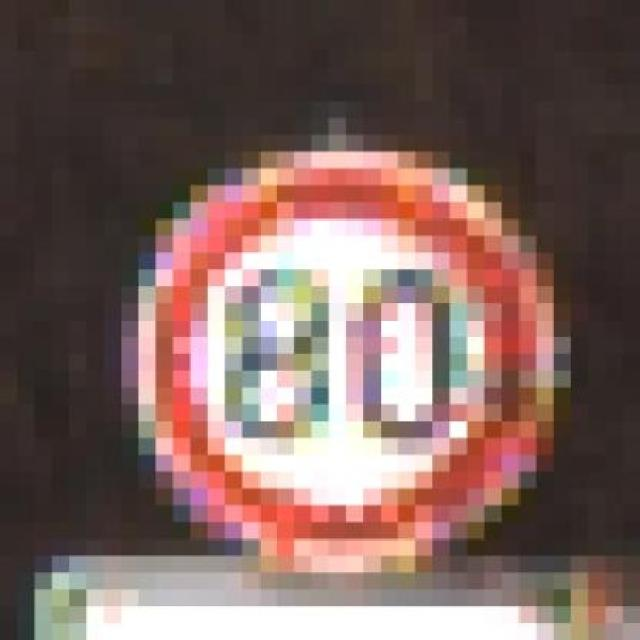forb_speed_over_80: (140, 171, 548, 560)
